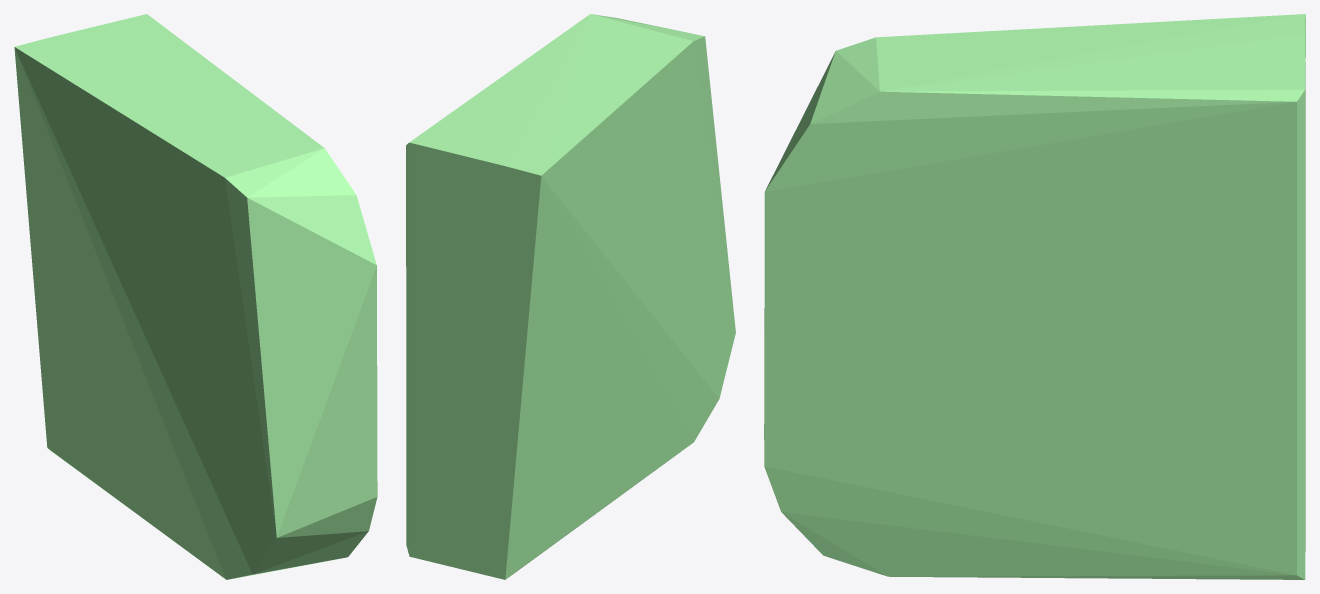
File: panda_leftFinger_coll_1.dae
3 views of the same model, side by side, from view 1: azimuth 30°, elevation 25°; view 2: azimuth 150°, elevation 25°; view 3: azimuth 270°, elevation 25° (orthographic). The views are drawn at different scales.
Parts seen in each view (by area): view 1: node; view 2: node; view 3: node.
Boxes of the visible parts, x1,y1,x2,y2 form: node: (14,14,377,579); node: (406,14,735,579); node: (764,14,1305,579).
Size of the model in its own units: 0.00637 by 0.0181 by 0.0181.
